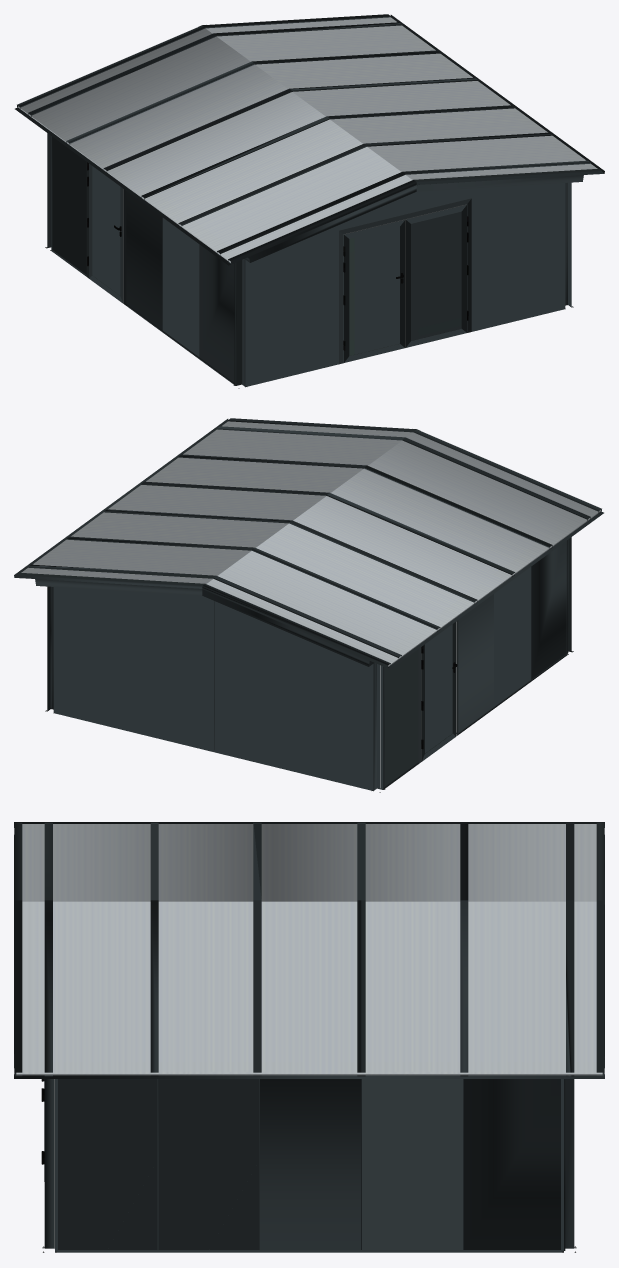
3 views of the same model, one above another, from view 1: azimuth 30°, elevation 25°; view 2: azimuth 150°, elevation 25°; view 3: azimuth 270°, elevation 25° (orthographic). The views are drawn at different scales.
Parts seen in each view (by area): view 1: priximbattable_net_abris_de_voiture_640014_garage_polycarbon, folha_3, folha_2, folha, porta_dupla, porta; view 2: priximbattable_net_abris_de_voiture_640014_garage_polycarbon, folha, porta; view 3: priximbattable_net_abris_de_voiture_640014_garage_polycarbon.
Part boxes in pixels (<box>): priximbattable_net_abris_de_voiture_640014_garage_polycarbon: <box>15,14,604,388</box>; folha_3: <box>343,219,405,362</box>; folha_2: <box>405,204,468,347</box>; folha: <box>87,162,123,303</box>; porta_dupla: <box>339,198,471,364</box>; porta: <box>86,162,126,305</box>; priximbattable_net_abris_de_voiture_640014_garage_polycarbon: <box>14,418,603,792</box>; folha: <box>421,622,455,761</box>; porta: <box>418,620,458,763</box>; priximbattable_net_abris_de_voiture_640014_garage_polycarbon: <box>14,822,604,1252</box>.
Size of the model in its own units: 589 by 261 by 580.
1 material, 1 textured.
